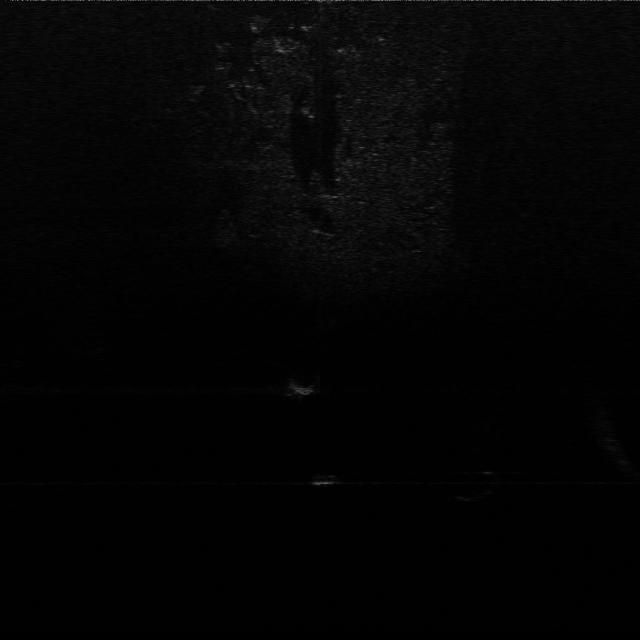cube: (306, 466, 362, 491)
square cage: (279, 376, 322, 402)
tyre: (473, 466, 498, 509)
